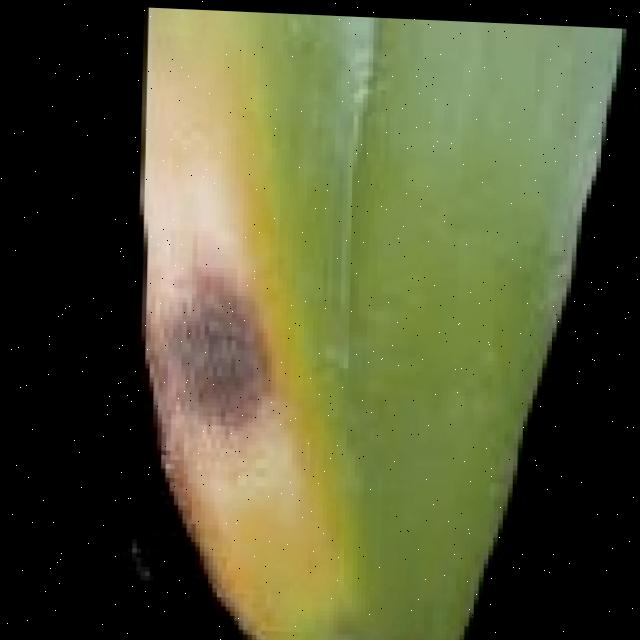mite: (277, 610, 440, 640)
sunburn: (150, 262, 279, 447)
